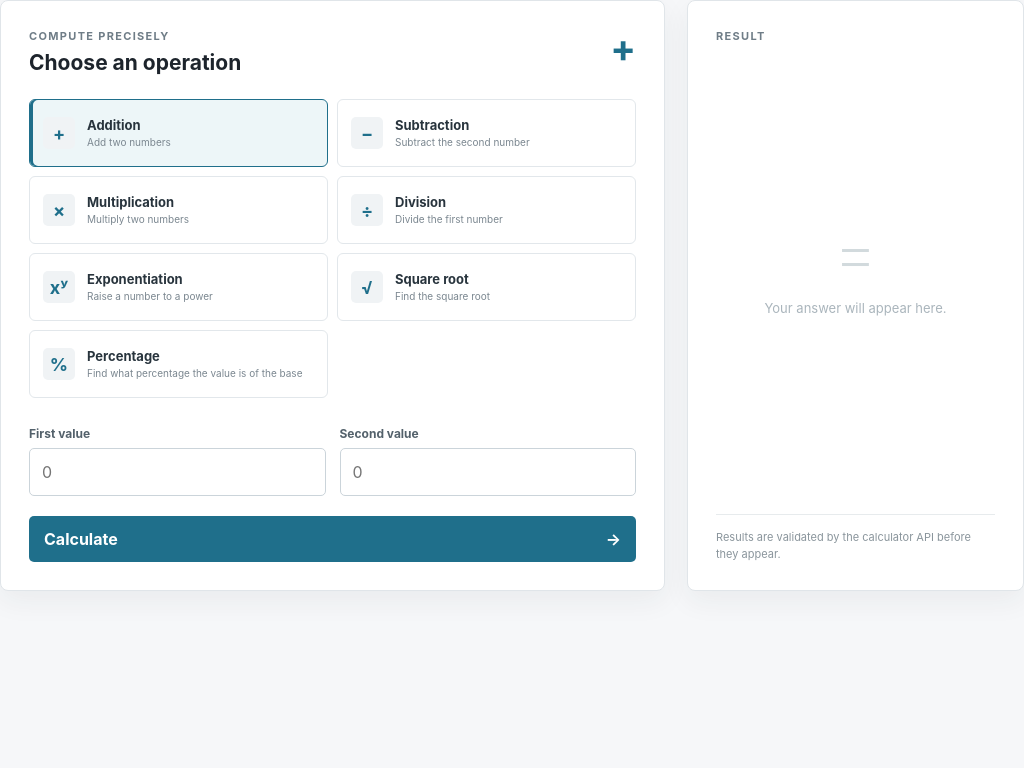
Calculator › calculates and displays an answer
Type "2" into the number field labelled "First value".
click(177, 472); type("2")  # box [29,448,326,496]
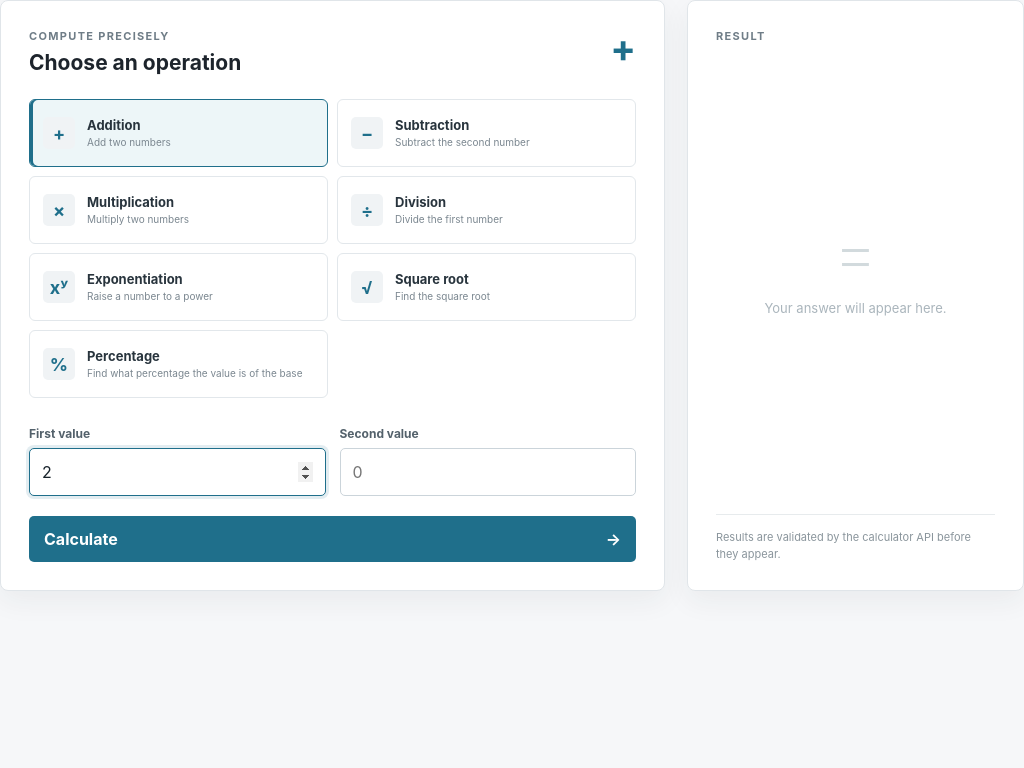
Type "3" into the number field labelled "Second value".
click(488, 472); type("3")  # box [340,448,636,496]
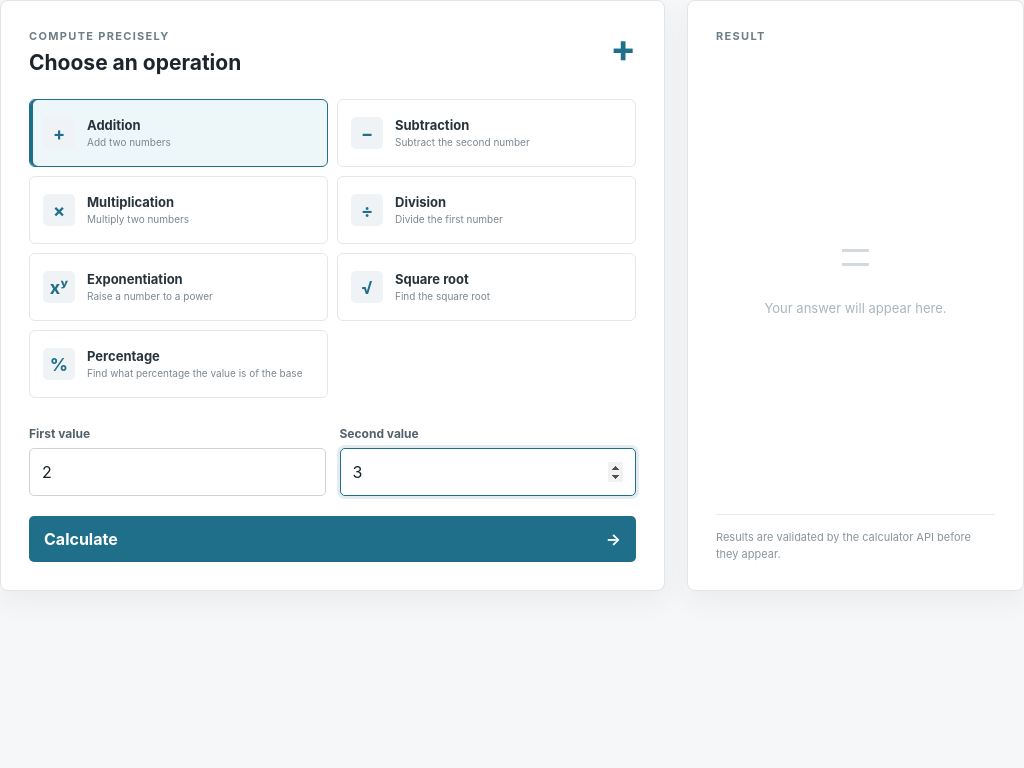
Click the button "Calculate →".
click(81, 539)  # box [29,516,636,562]
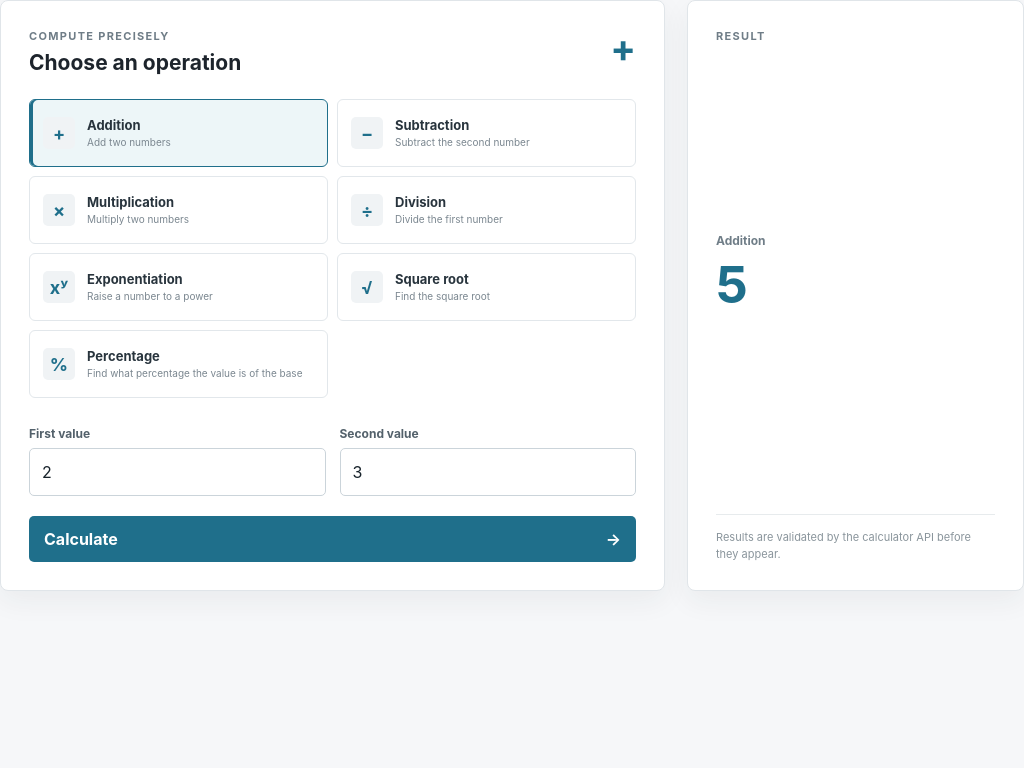
expect the text "5" is shown: met, box [716,253,748,315]
